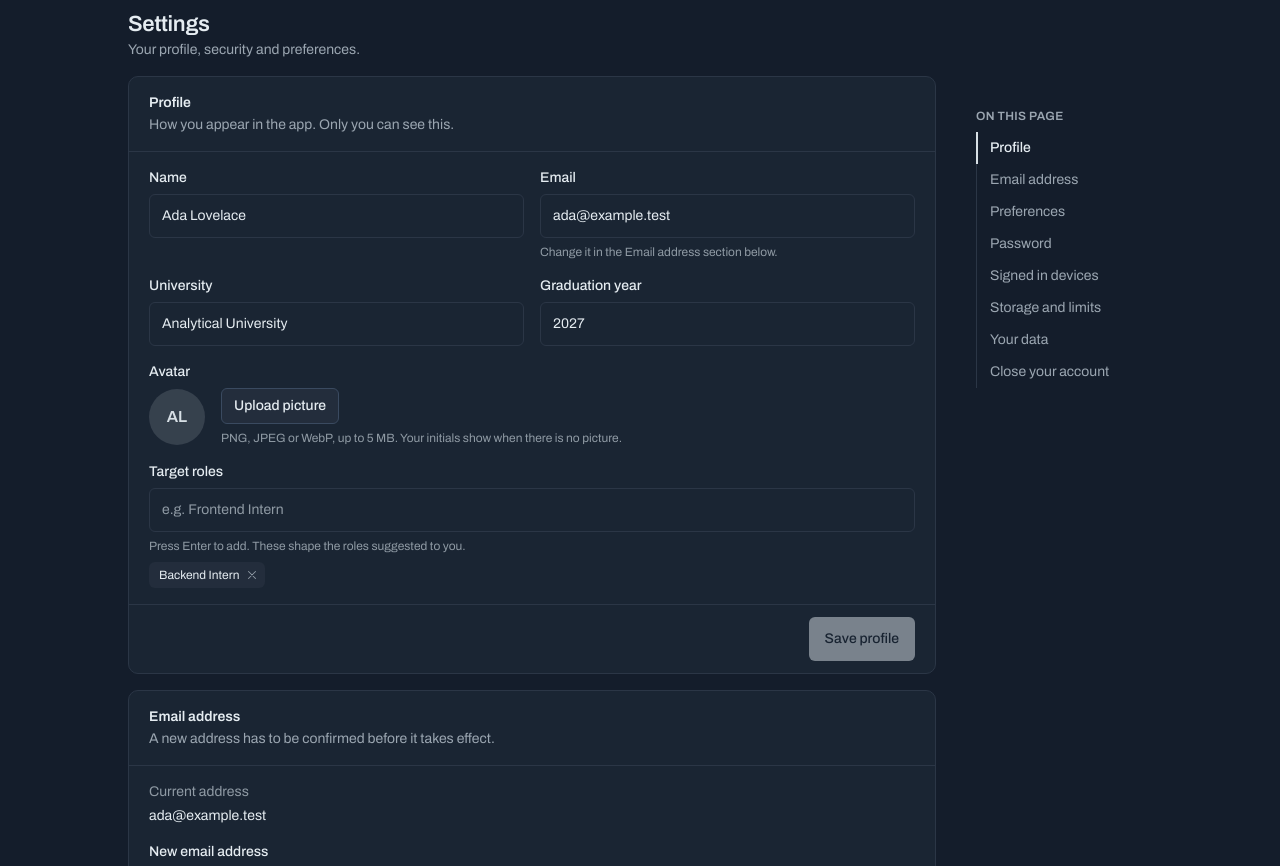
Scenario: settings profile › rejects a bad graduation year before it reaches the server
Type "20" into the field labelled "Graduation year" at [728, 324], box top-left (540, 302), bottom-right (915, 346)
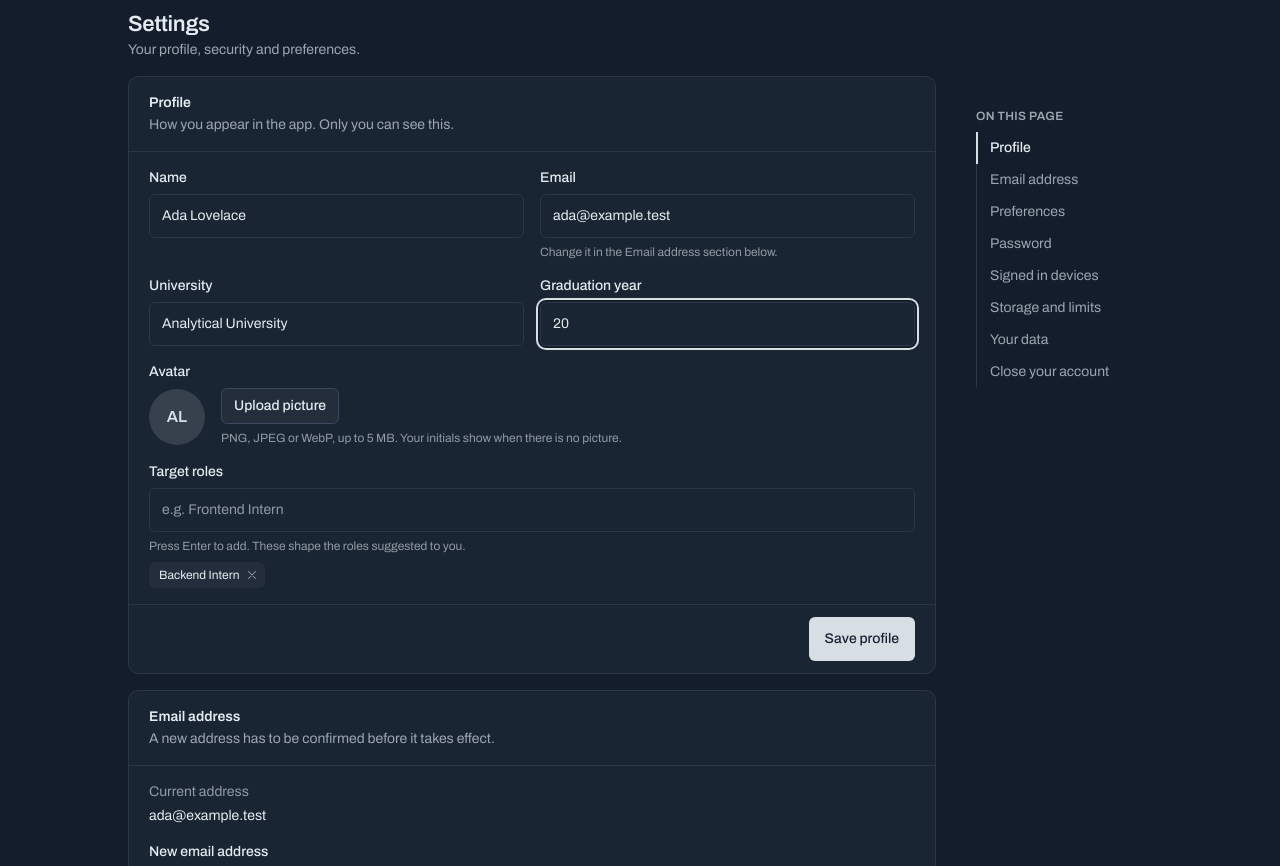
Click the button "Save profile" at [862, 639], box top-left (809, 617), bottom-right (915, 661)
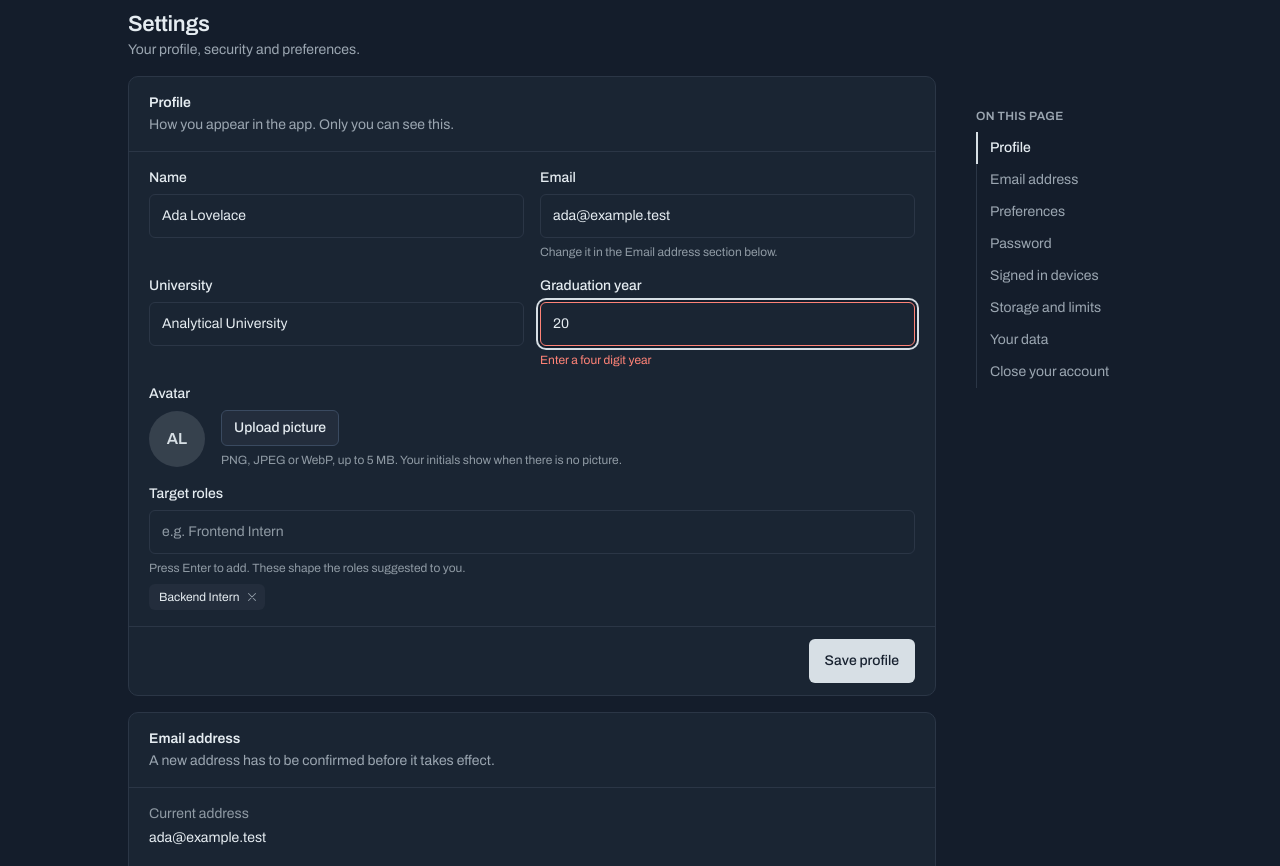
Expected: the text "Enter a four digit year" is shown, top-left (540, 353), bottom-right (652, 367)
